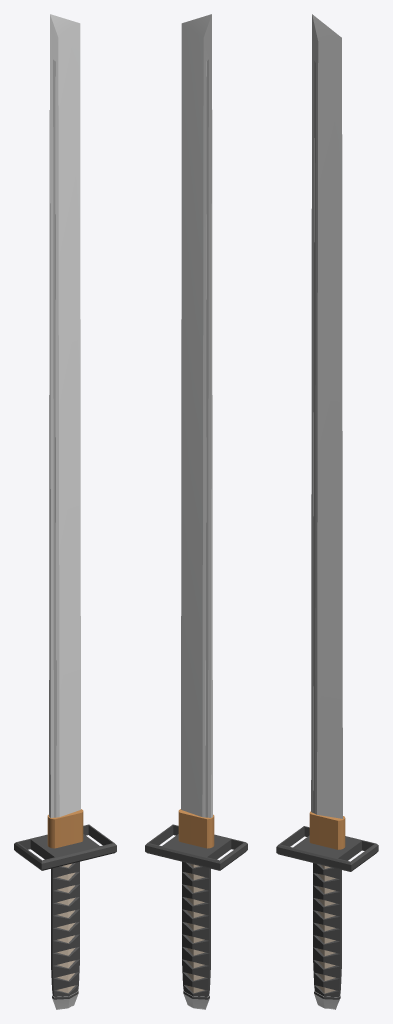
Rendered from SM_Sword03_Chokuto_3Silver.fbx.
3 renders of one model, left to right at view 1: azimuth 30°, elevation 25°; view 2: azimuth 150°, elevation 25°; view 3: azimuth 330°, elevation 25°, orthographic.
Parts seen in each view (by area): view 1: Cube.445, Torus.030, Cylinder.636, Cylinder.635, Sphere.123; view 2: Cube.445, Torus.030, Cylinder.636, Cylinder.635, Sphere.123; view 3: Cube.445, Torus.030, Cylinder.636, Cylinder.635, Sphere.123.
Part boxes in pixels (bbox=[...]): Cube.445: bbox=[49, 14, 80, 817]; Torus.030: bbox=[51, 861, 79, 996]; Cylinder.636: bbox=[14, 824, 116, 870]; Cylinder.635: bbox=[47, 809, 83, 848]; Sphere.123: bbox=[52, 991, 78, 1009]; Cube.445: bbox=[181, 14, 212, 817]; Torus.030: bbox=[182, 861, 210, 996]; Cylinder.636: bbox=[145, 824, 247, 870]; Cylinder.635: bbox=[178, 809, 214, 848]; Sphere.123: bbox=[183, 991, 209, 1009]; Cube.445: bbox=[311, 14, 342, 818]; Torus.030: bbox=[313, 863, 341, 997]; Cylinder.636: bbox=[276, 826, 378, 871]; Cylinder.635: bbox=[309, 811, 345, 849]; Sphere.123: bbox=[314, 991, 340, 1009].
Bounding box in the file's own units: 0.0654 × 0.828 × 0.0413.
